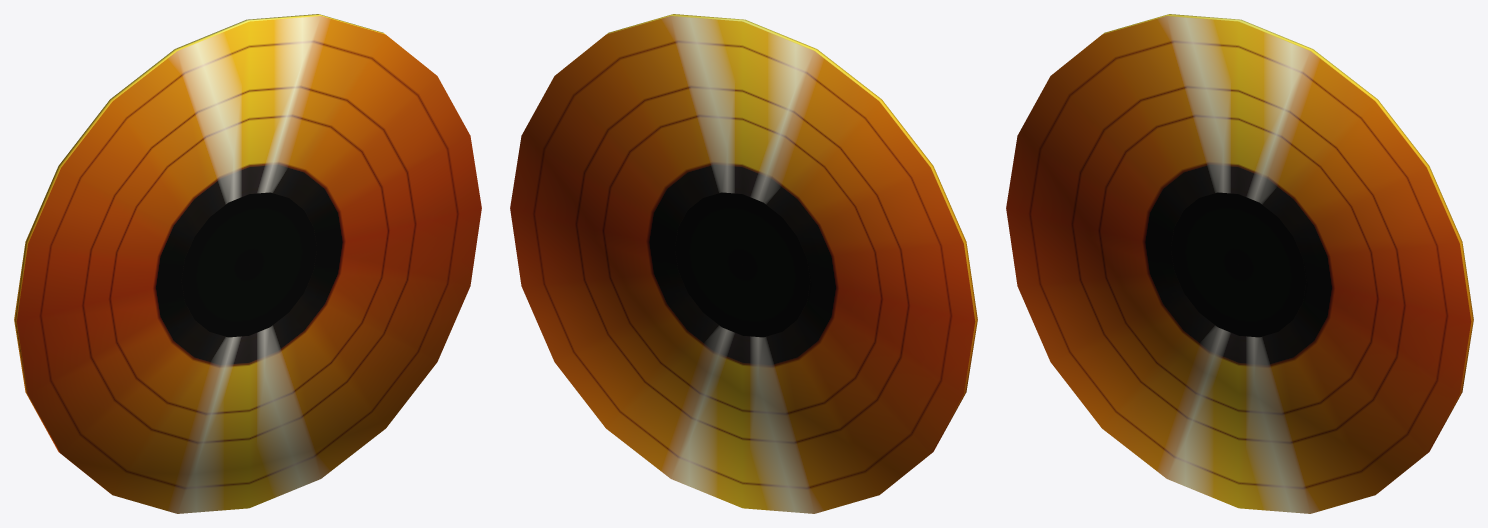
Rendered from lp_black.glb.
3 renders of one model, left to right at view 1: azimuth 30°, elevation 25°; view 2: azimuth 150°, elevation 25°; view 3: azimuth 330°, elevation 25°, orthographic.
Visible parts, largest first — view 1: lp_black; view 2: lp_black; view 3: lp_black.
Part boxes in pixels (x1,y1,x2,y2): lp_black: (14, 14, 481, 513); lp_black: (510, 14, 977, 513); lp_black: (1006, 14, 1473, 513).
Bounding box in the file's own units: 7.65 × 7.65 × 0.0753.
1 material, 1 textured.
